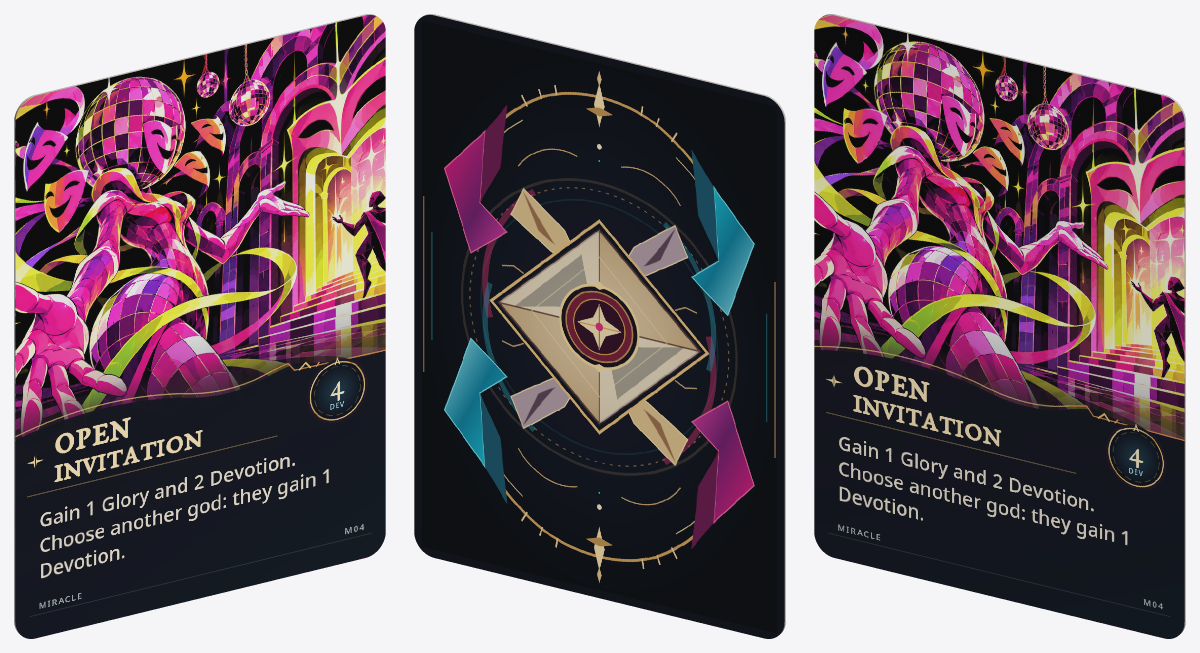
File: SGLD_M04_MIRACLE_POKER_CARD_3D_v0.2-P.glb
3 views of the same model, side by side, from view 1: azimuth 30°, elevation 25°; view 2: azimuth 150°, elevation 25°; view 3: azimuth 330°, elevation 25° (orthographic).
Visible parts, largest first — view 1: M04_FRONT, M04_EDGE; view 2: M04_BACK, M04_EDGE; view 3: M04_FRONT, M04_EDGE.
Part boxes in pixels (bbox=[...]): M04_FRONT: bbox=[15, 15, 385, 638]; M04_EDGE: bbox=[14, 14, 377, 633]; M04_BACK: bbox=[414, 15, 784, 638]; M04_EDGE: bbox=[422, 14, 785, 633]; M04_FRONT: bbox=[814, 15, 1184, 638]; M04_EDGE: bbox=[822, 14, 1185, 633].
Size of the model in its own units: 0.0635 by 0.0889 by 0.00038.
3 materials, 2 textured.
